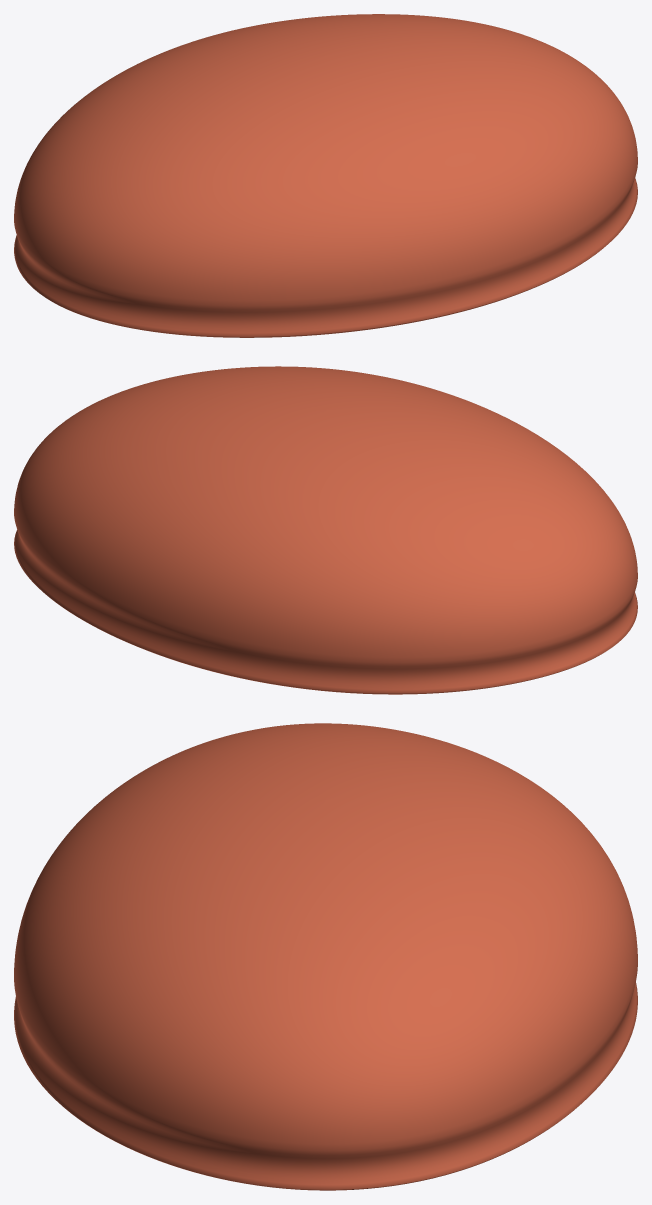
Rendered from moonga.glb.
3 renders of one model, top to bottom at view 1: azimuth 30°, elevation 25°; view 2: azimuth 150°, elevation 25°; view 3: azimuth 270°, elevation 25°, orthographic. The views are drawn at different scales.
Visible parts, largest first — view 1: stone; view 2: stone; view 3: stone.
Boxes of the visible parts, x1,y1,x2,y2 form: stone: (14, 14, 637, 337); stone: (14, 366, 637, 694); stone: (14, 723, 637, 1190).
Bounding box in the file's own units: 1.21 × 0.378 × 0.9011.
